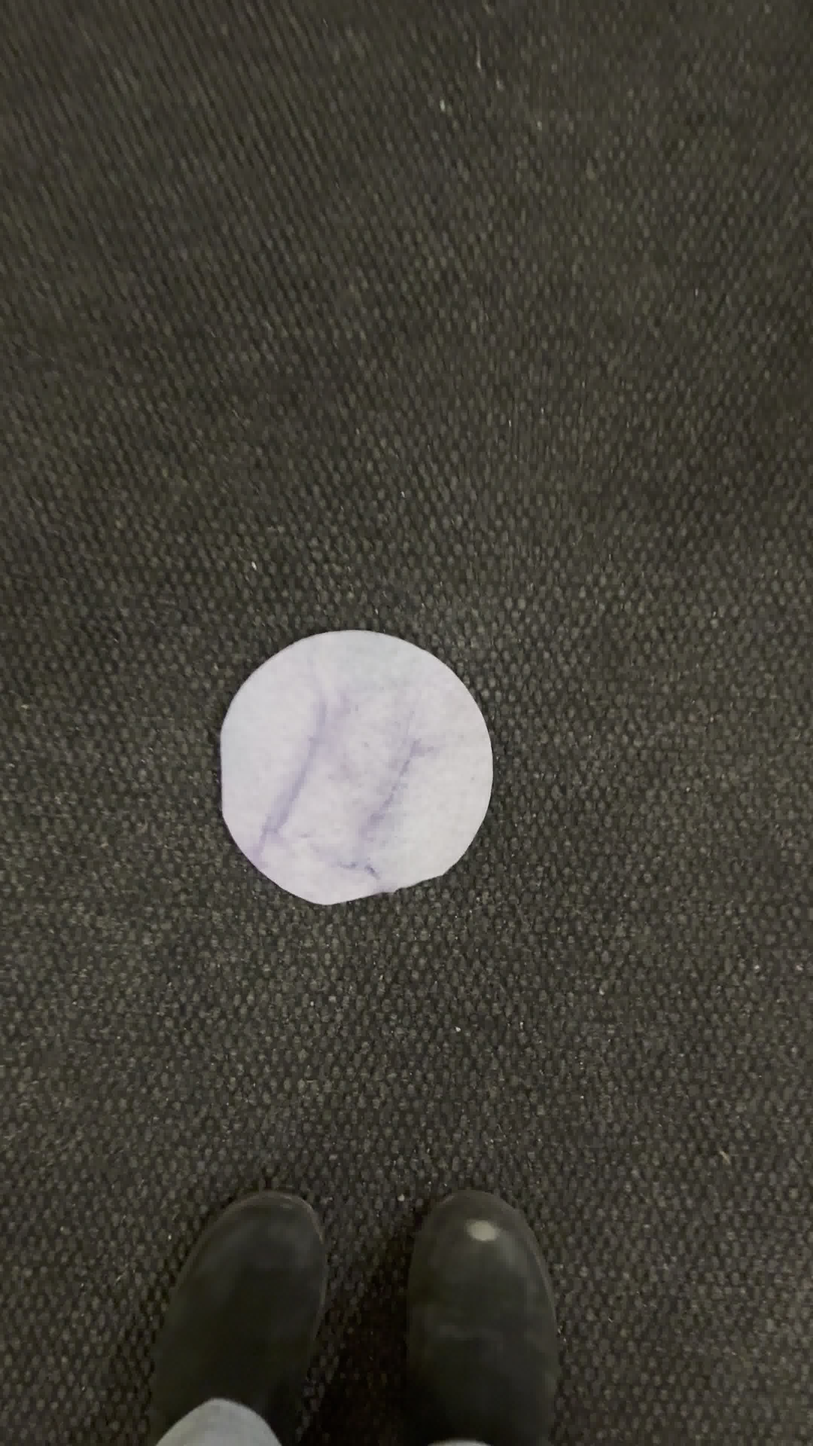Target: (215, 624, 495, 905)
